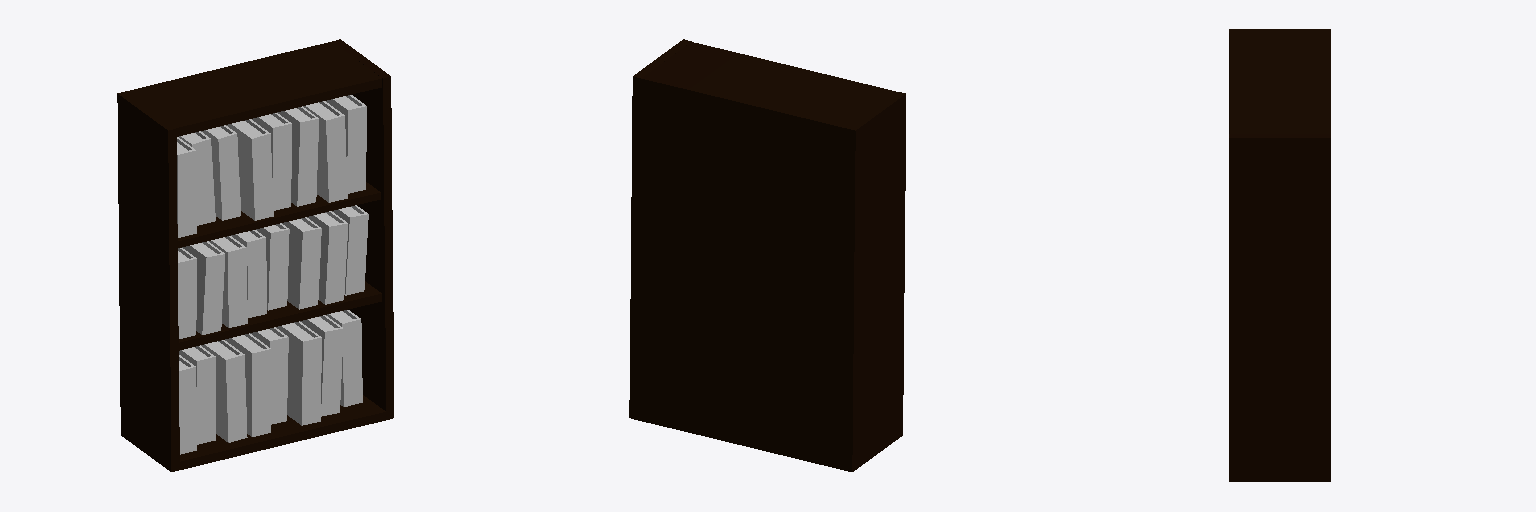
Rendered from bookshelf.obj.
3 renders of one model, left to right at view 1: azimuth 30°, elevation 25°; view 2: azimuth 150°, elevation 25°; view 3: azimuth 270°, elevation 25°, orthographic.
Parts seen in each view (by area): view 1: Shelf, Book.021, Book.003, Book.018, Book.006, Book.013, Book.019, Book.005, Book.009, Book.002, Book.014, Book.022 (+13 smaller); view 2: Shelf; view 3: Shelf.
Part boxes in pixels (left/top/right/bottom): Shelf: left=117, top=39, right=393, bottom=471; Book.021: left=276, top=321, right=321, bottom=425; Book.003: left=226, top=119, right=273, bottom=220; Book.018: left=201, top=340, right=247, bottom=442; Book.006: left=303, top=101, right=347, bottom=202; Book.013: left=282, top=217, right=321, bottom=309; Book.019: left=225, top=333, right=270, bottom=436; Book.005: left=277, top=106, right=318, bottom=206; Book.009: left=182, top=241, right=224, bottom=334; Book.002: left=201, top=125, right=240, bottom=220; Book.014: left=307, top=211, right=347, bottom=304; Book.022: left=300, top=315, right=343, bottom=416; Shelf: left=629, top=39, right=905, bottom=471; Shelf: left=1229, top=29, right=1330, bottom=481.
Bounding box in the file's own units: 1.99 × 2.88 × 0.775.